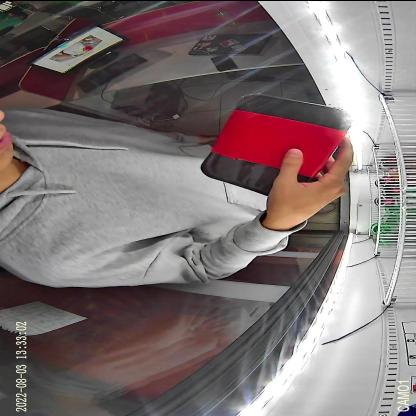red: (200, 92, 352, 196)
